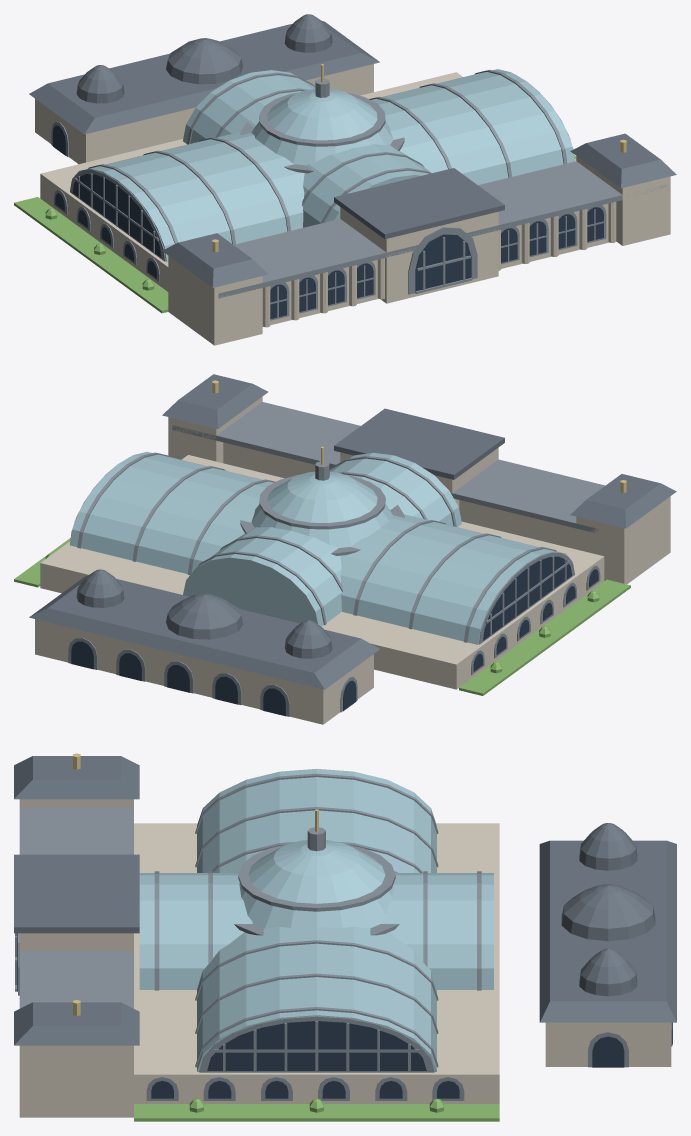
File: grand-palais-6x6.glb
3 views of the same model, one above another, from view 1: azimuth 30°, elevation 25°; view 2: azimuth 150°, elevation 25°; view 3: azimuth 270°, elevation 25° (orthographic). The views are drawn at different scales.
Parts seen in each view (by area): view 1: grand-palais-6x6; view 2: grand-palais-6x6; view 3: grand-palais-6x6.
Boxes of the visible parts, x1,y1,x2,y2 form: grand-palais-6x6: (14,14,676,345); grand-palais-6x6: (14,374,676,724); grand-palais-6x6: (14,753,676,1121).
Bounding box in the file's own units: 5.86 × 1.64 × 5.8.
1 material, 1 textured.
